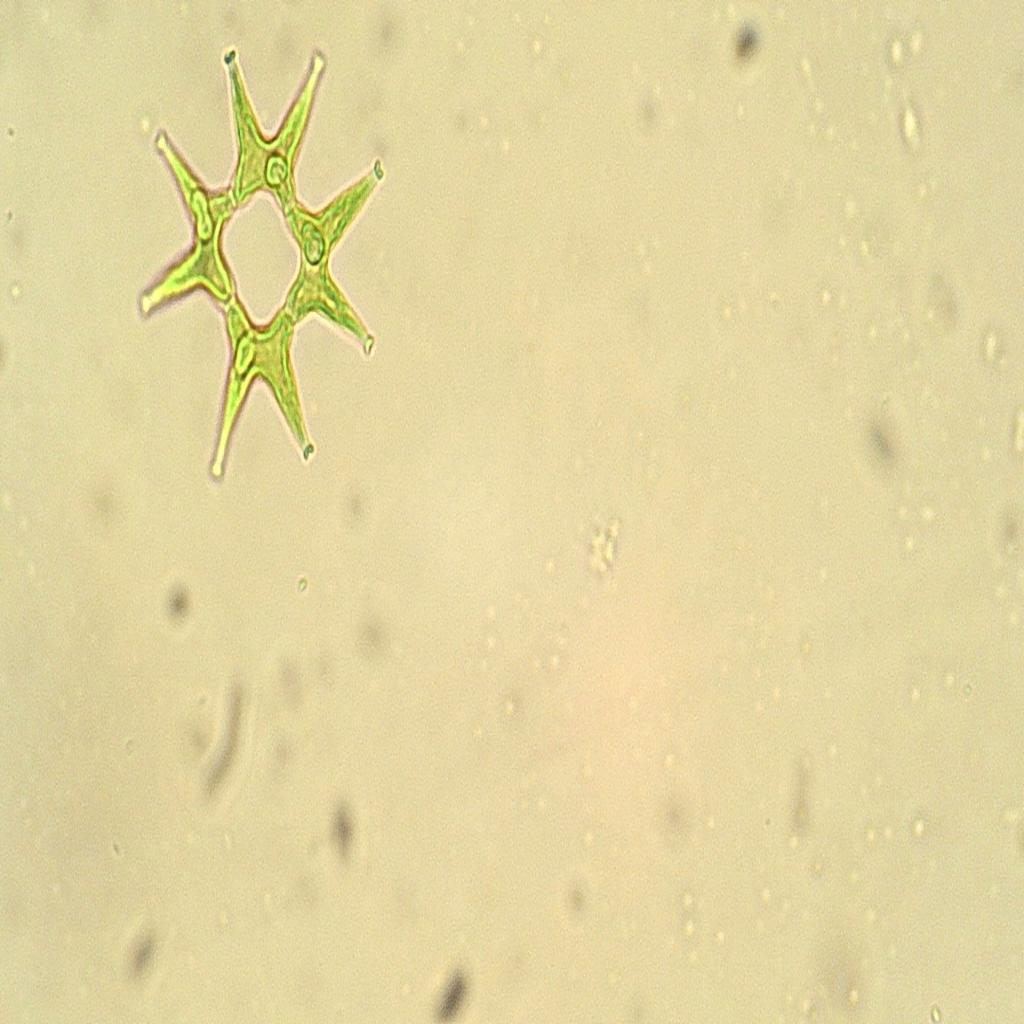Pediastrum_75O: (128, 30, 406, 496)
